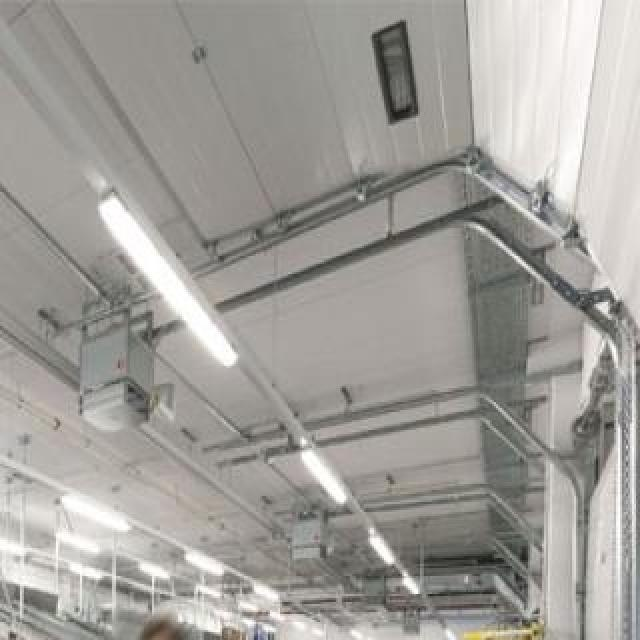fluorescent tube: (33, 140, 238, 380), (36, 463, 133, 541), (275, 423, 353, 513), (353, 518, 407, 582), (38, 511, 102, 562), (122, 543, 178, 593), (229, 578, 295, 618), (164, 542, 231, 580), (0, 520, 40, 572)
